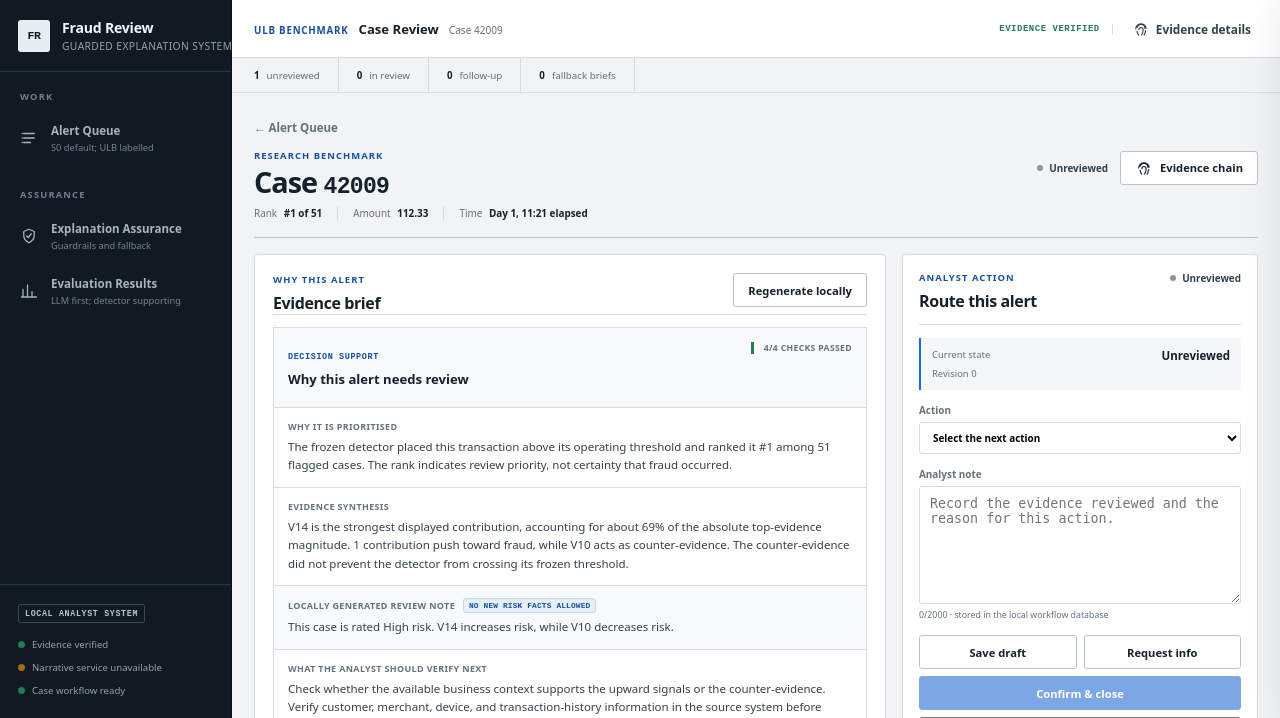
it: Fraud Review Workbench › persists a provisional analyst review through the workflow API
Select "Escalate for investigation" in the dropdown labelled "Action" at (1080, 438), box [919,422,1241,454]
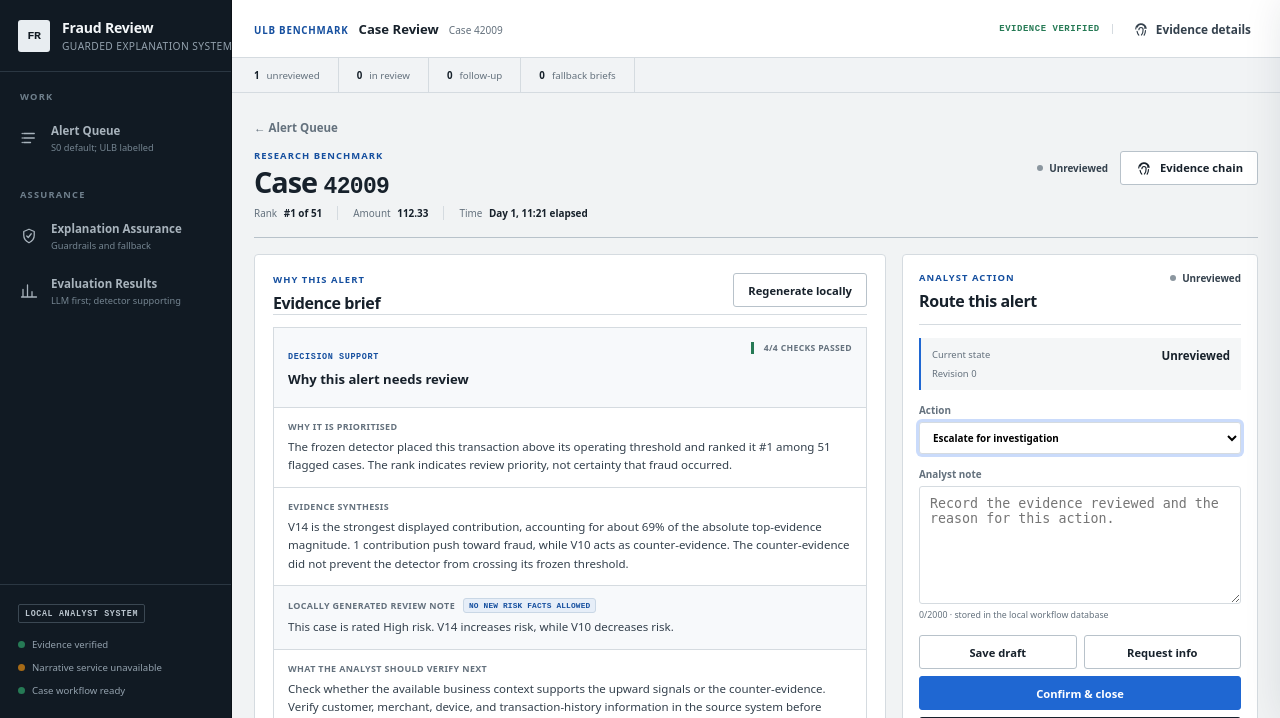
Type "Escalate based on the recorded evidence." into the text box labelled "Analyst note 0/2000 · stored in the local workflow database" at (1080, 545), box [919,486,1241,604]
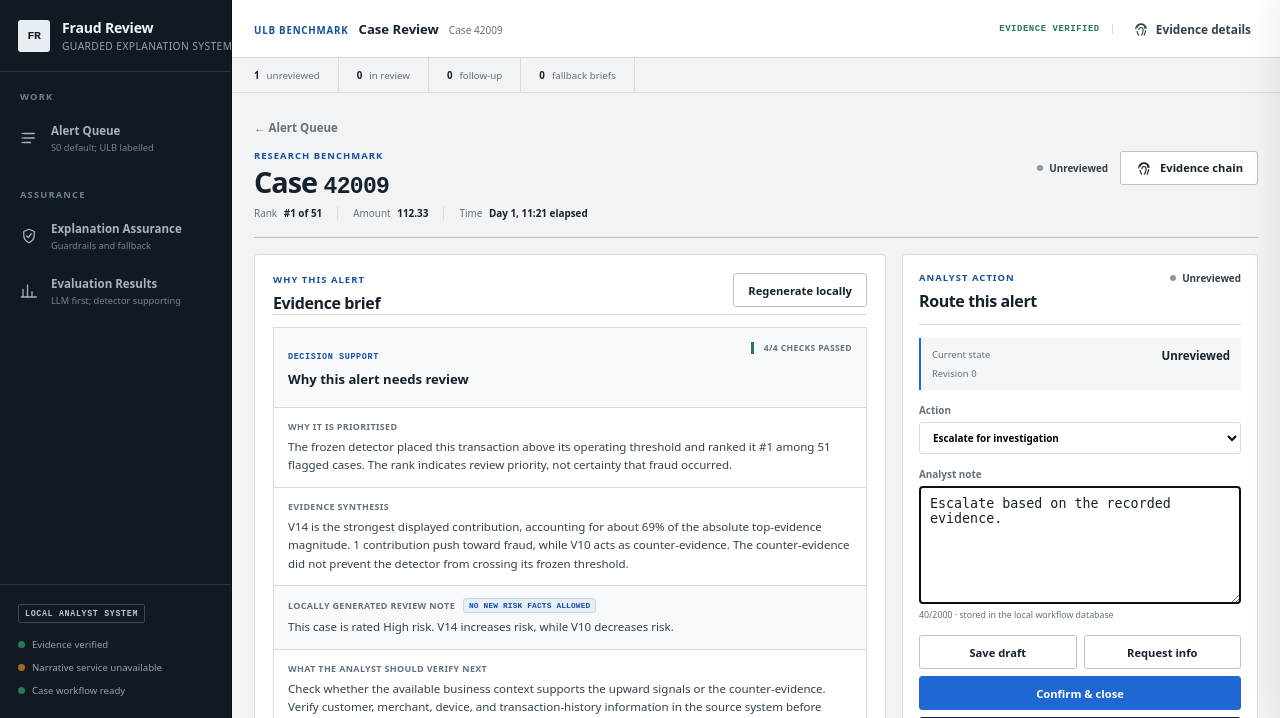
Click the button "Confirm & close" at (1080, 693), box [919,676,1241,710]
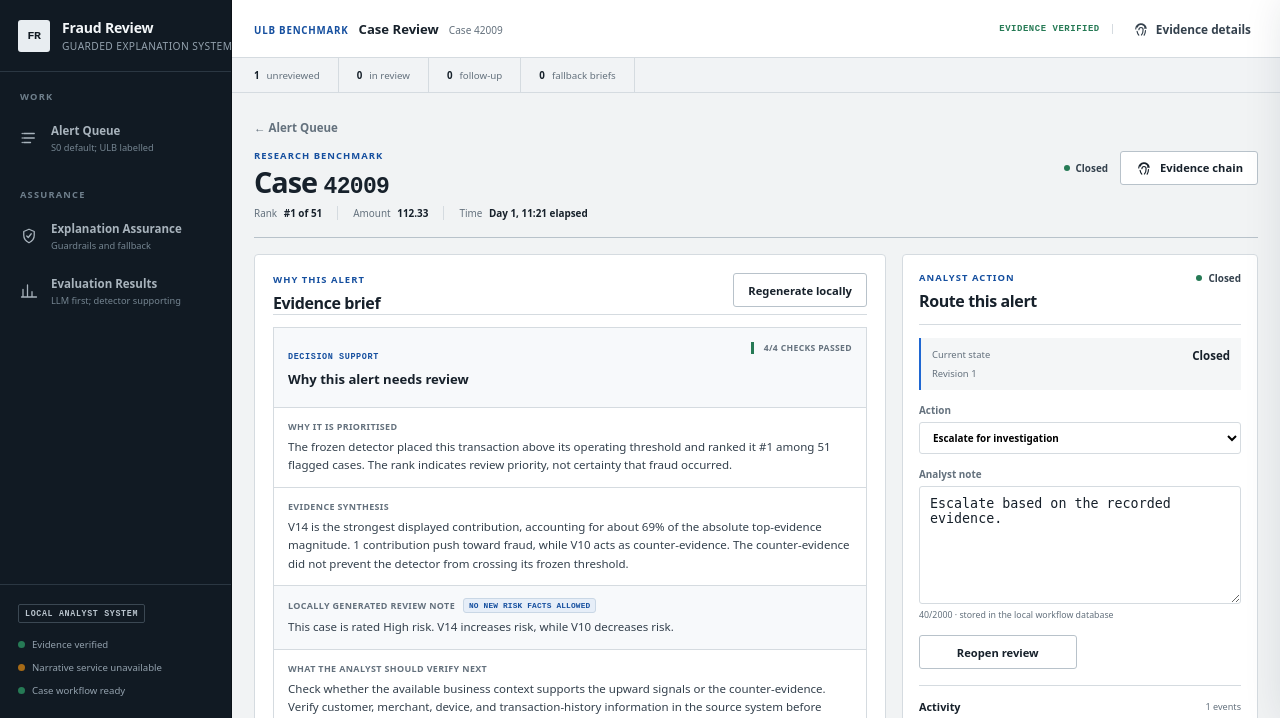
Now the text "Closed" is shown, box [1064,160,1108,174]
